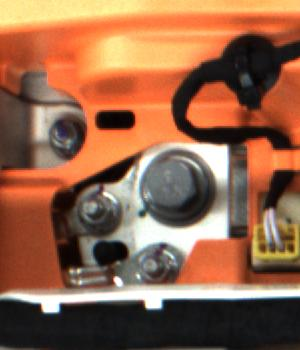nut_b: (141, 152, 213, 222)
